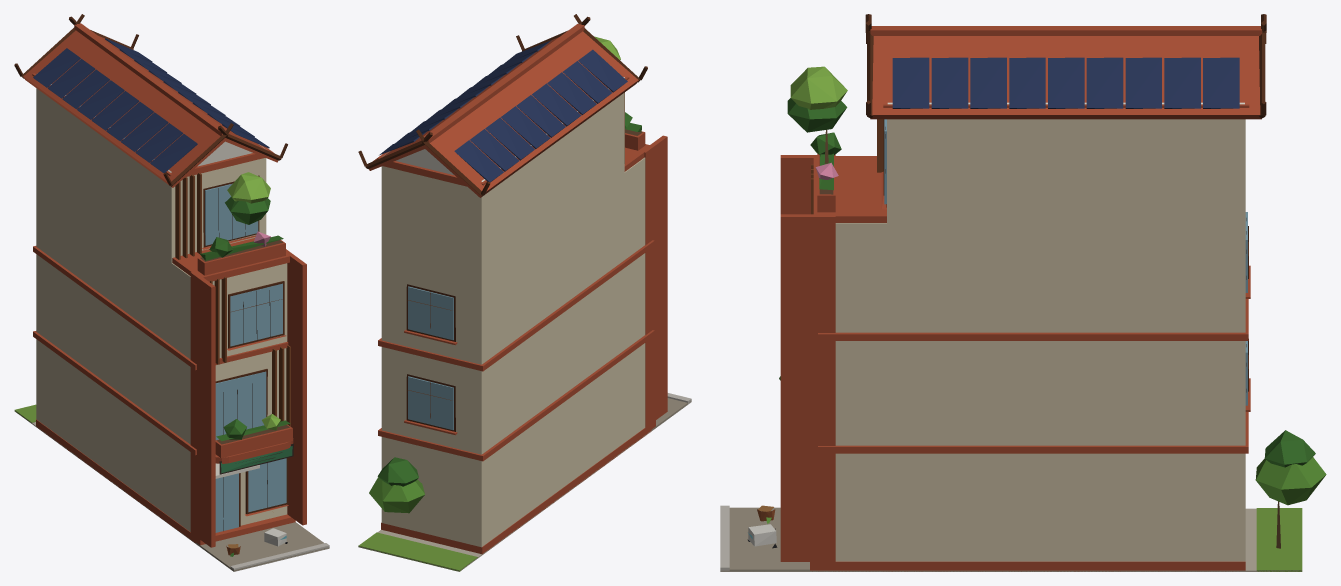
File: bay2_mid2.glb
3 views of the same model, side by side, from view 1: azimuth 30°, elevation 25°; view 2: azimuth 150°, elevation 25°; view 3: azimuth 270°, elevation 25° (orthographic). The views are drawn at different scales.
Parts seen in each view (by area): view 1: body; view 2: body; view 3: body.
Boxes of the visible parts, x1,y1,x2,y2 form: body: (14, 14, 329, 571); body: (358, 14, 691, 571); body: (720, 14, 1326, 571).
Bounding box in the file's own units: 5.23 × 16.16 × 16.56.
